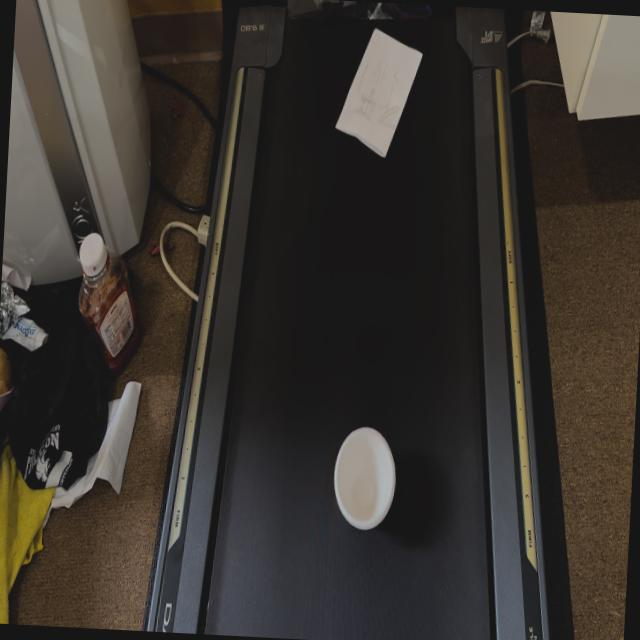Recycle: (332, 24, 426, 164), (332, 422, 399, 532)
